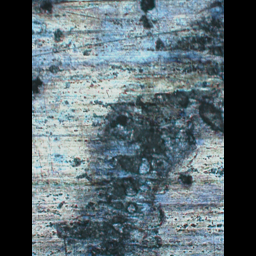d: (58, 3, 223, 256)
